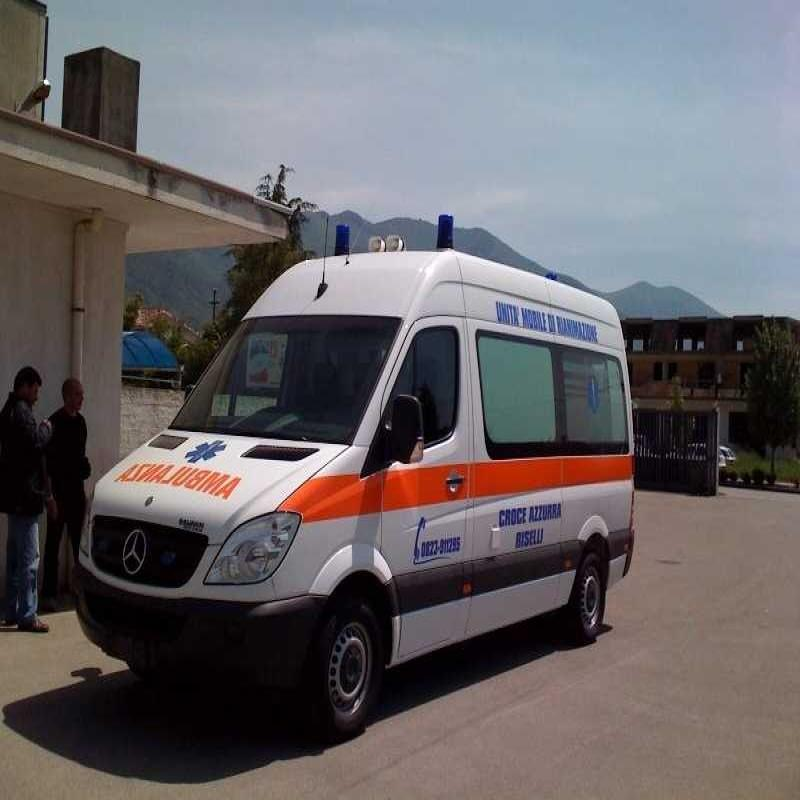AmbulanceSiren: (427, 205, 466, 259), (328, 209, 360, 268)
